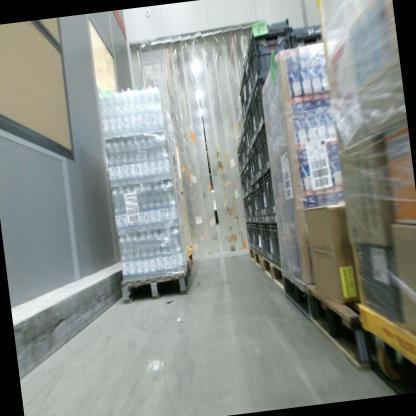pallet: (298, 269, 374, 381), (117, 261, 194, 301), (258, 252, 287, 302), (281, 269, 305, 314), (247, 244, 263, 275)
